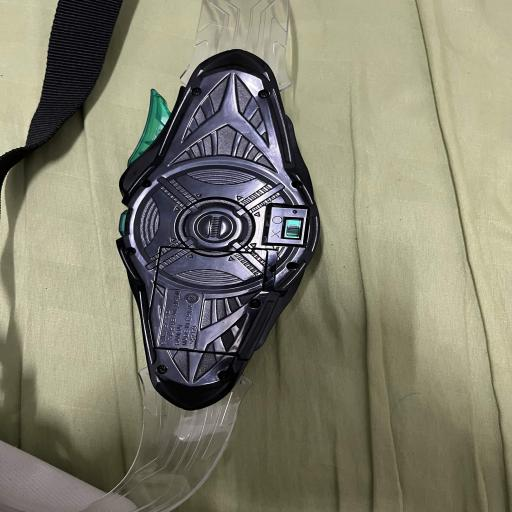zeztzdriver: (116, 50, 320, 410), (0, 368, 251, 512), (180, 0, 290, 89)
